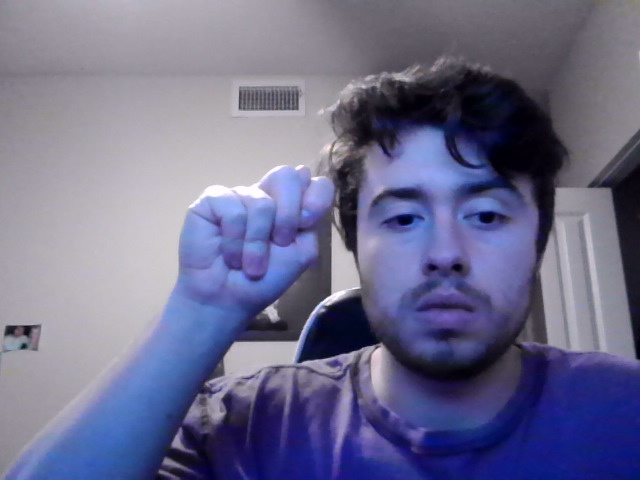t: (177, 163, 336, 331)
